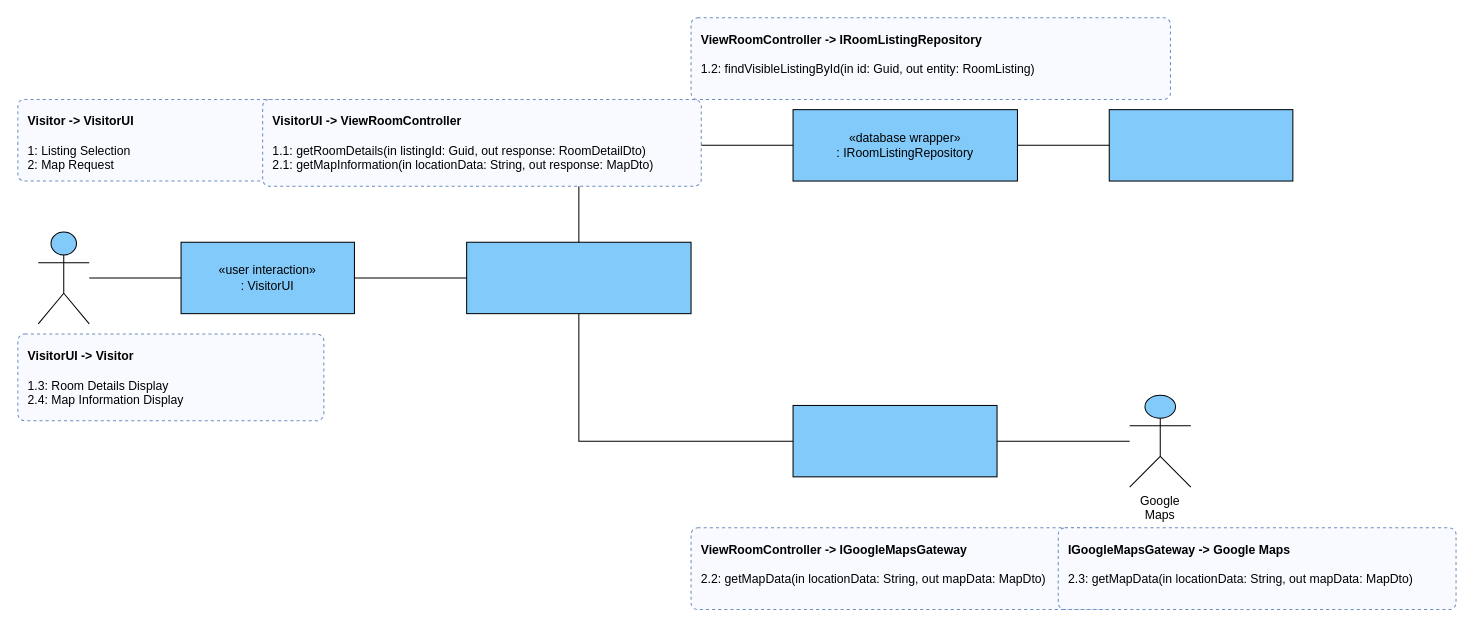
This 1474x627 diagram has some shape labels left out. The shapes that lost their labels are listed below. From the top down, each one's box as (x1, y1, x2, y2) in pixels, then its label:
(1108, 109, 1293, 181): «data abstraction» : RoomListing
(37, 231, 89, 324): Visitor
(466, 241, 691, 314): «coordinator» : ViewRoomController
(792, 404, 997, 477): «proxy» : IGoogleMapsGateway
